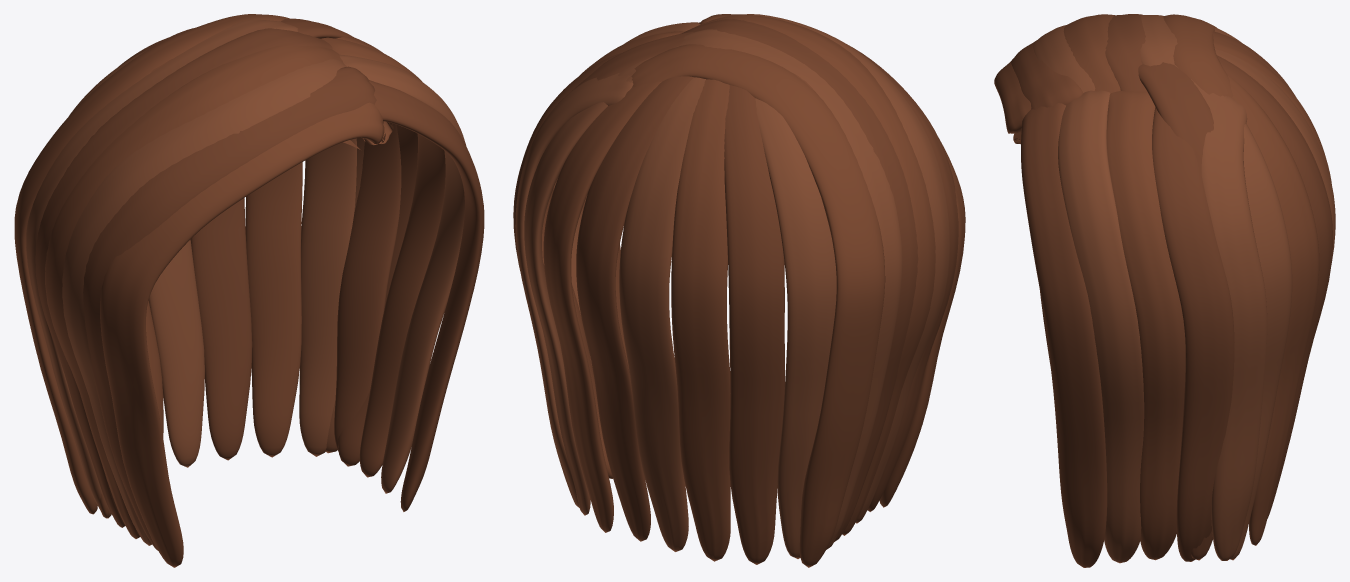
Rendered from Feminine-straight-hair260.glb.
3 views of the same model, side by side, from view 1: azimuth 30°, elevation 25°; view 2: azimuth 150°, elevation 25°; view 3: azimuth 270°, elevation 25° (orthographic). The views are drawn at different scales.
Parts seen in each view (by area): view 1: 226 hair / Hair / sculpted 0.001, 226 hair / Hair / sculpted 1.002, 226 hair / Hair / sculpted 2.001; view 2: 226 hair / Hair / sculpted 0.001, 226 hair / Hair / sculpted 2.001, 226 hair / Hair / sculpted 1.002; view 3: 226 hair / Hair / sculpted 1.002, 226 hair / Hair / sculpted 2.001, 226 hair / Hair / sculpted 0.001.
Part boxes in pixels (x1,y1,x2,y2): 226 hair / Hair / sculpted 0.001: [14, 14, 445, 567]; 226 hair / Hair / sculpted 1.002: [35, 18, 484, 550]; 226 hair / Hair / sculpted 2.001: [26, 19, 466, 545]; 226 hair / Hair / sculpted 0.001: [542, 15, 965, 567]; 226 hair / Hair / sculpted 2.001: [515, 14, 950, 558]; 226 hair / Hair / sculpted 1.002: [513, 14, 958, 564]; 226 hair / Hair / sculpted 1.002: [1011, 14, 1332, 567]; 226 hair / Hair / sculpted 2.001: [1033, 14, 1335, 563]; 226 hair / Hair / sculpted 0.001: [994, 14, 1331, 560].
Size of the model in its own units: 1.02 by 1.19 by 0.7721.
